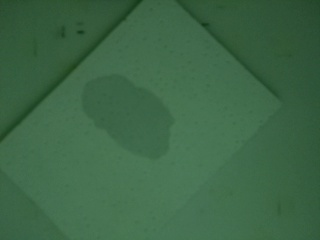Water_detected: (92, 83, 162, 150)
